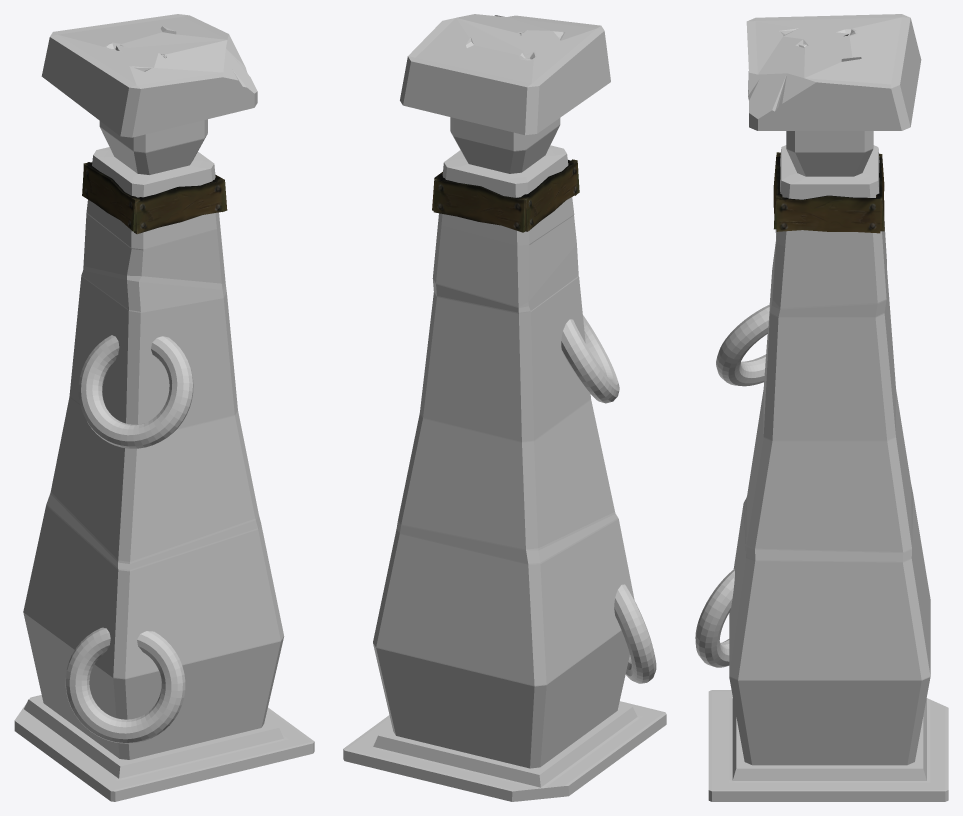
The model's file is Piller.fbx.
3 views of the same model, side by side, from view 1: azimuth 30°, elevation 25°; view 2: azimuth 150°, elevation 25°; view 3: azimuth 270°, elevation 25° (orthographic). The views are drawn at different scales.
Parts seen in each view (by area): view 1: Cube.003; view 2: Cube.003; view 3: Cube.003.
Boxes of the visible parts, x1,y1,x2,y2 form: Cube.003: (14, 14, 314, 801); Cube.003: (343, 14, 666, 801); Cube.003: (695, 14, 948, 801).
Size of the model in its own units: 181 by 550 by 178.
